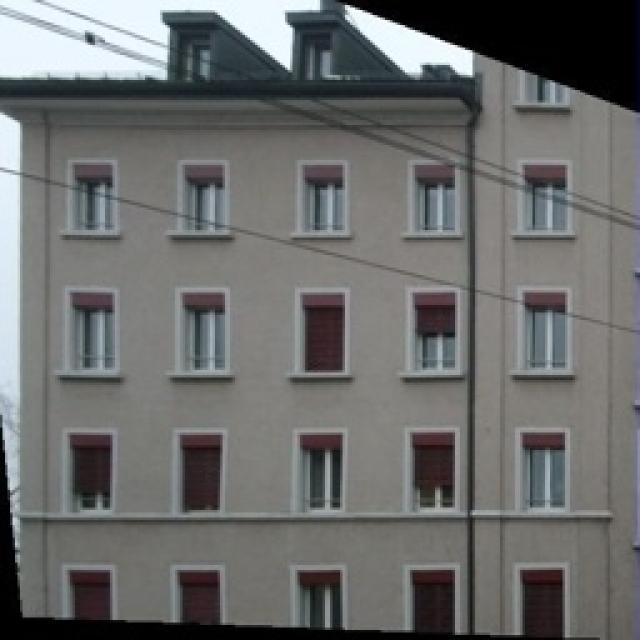Window: (295, 430, 340, 510), (524, 448, 568, 512), (525, 308, 565, 370), (185, 310, 225, 370), (75, 310, 113, 368), (414, 185, 458, 233), (70, 180, 112, 230), (180, 182, 222, 232), (522, 185, 568, 230), (305, 182, 345, 232), (305, 588, 340, 630), (178, 35, 210, 80), (305, 33, 330, 76), (420, 338, 455, 368), (414, 488, 458, 510), (522, 82, 558, 106), (75, 495, 110, 510)
